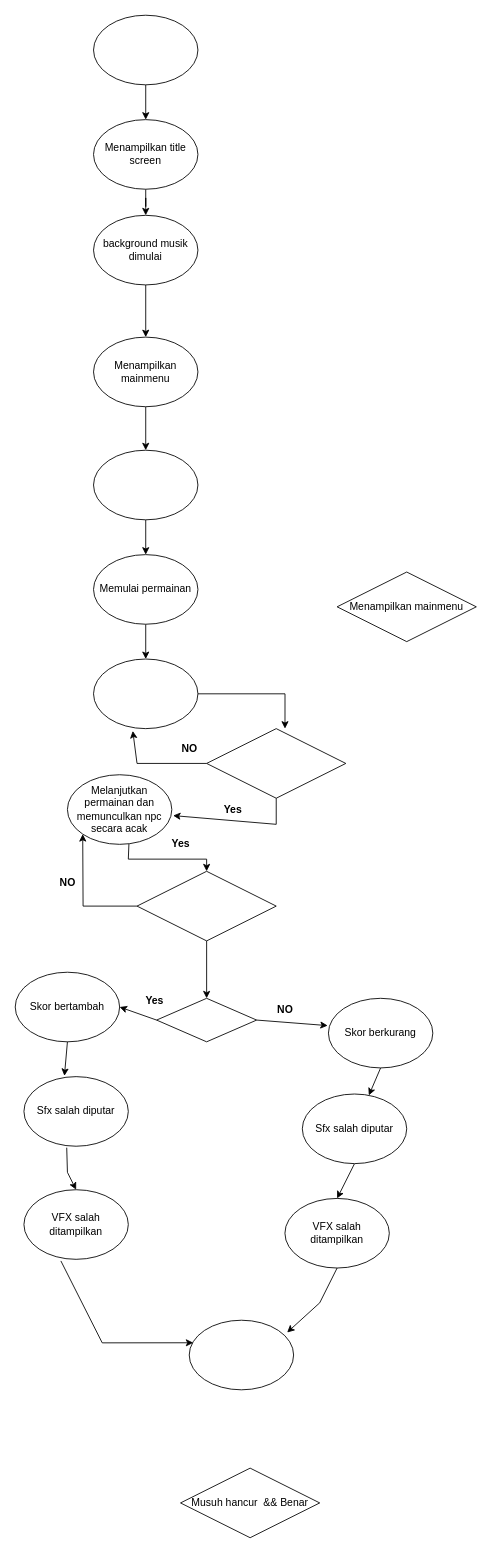
Some shapes in this 492 by 1553 pixel diagram are drawn without their labels. Here are the shapes that lost their labels. From the top down, the box of each, then its label:
(93, 14, 198, 85): menampilkan splash screen
(93, 449, 198, 520): Menampilkan pilihan level
(93, 658, 198, 729): menjeda permain dan menampilkan petunjuk permainan
(206, 728, 346, 798): next
(136, 870, 276, 941): Musuh hancur
(156, 997, 257, 1042): Benar
(188, 1319, 294, 1390): Total jumlah npc berkurang
